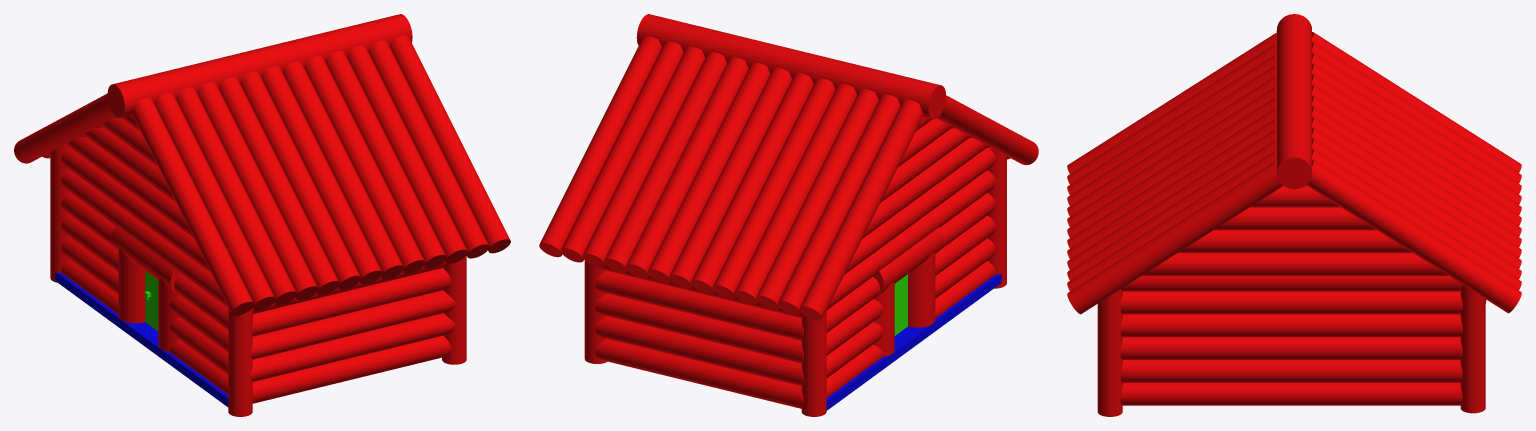
The model's file is log_house.fbx.
The picture shows the model from 3 angles, left to right: view 1: azimuth 30°, elevation 25°; view 2: azimuth 150°, elevation 25°; view 3: azimuth 270°, elevation 25°; orthographic projection. The views are drawn at different scales.
Visible parts, largest first — view 1: Cylinder.032, Cylinder.058, Cylinder.055, Cylinder.046, Cylinder.050, Cylinder.052, Cylinder.054, Cylinder.047, Cylinder.048, Cylinder.051, Cylinder.057, Cylinder.053 (+29 smaller); view 2: Cylinder.032, Cylinder.044, Cylinder.033, Cylinder.039, Cylinder.042, Cylinder.036, Cylinder.043, Cylinder.038, Cylinder.040, Cylinder.037, Cylinder.045, Cylinder.034 (+29 smaller); view 3: Cylinder.003, Cylinder.004, Cylinder.002, Cylinder.001, Cylinder, Cylinder.057, Cylinder.045, Cylinder.064, Cylinder.032, Cylinder.026, Cylinder.065, Cylinder.066 (+27 smaller).
Boxes of the visible parts, x1,y1,x2,y2 form: Cylinder.032: [107, 14, 412, 117]; Cylinder.058: [132, 97, 254, 315]; Cylinder.055: [176, 87, 296, 305]; Cylinder.046: [368, 40, 489, 258]; Cylinder.050: [283, 61, 403, 279]; Cylinder.052: [240, 71, 360, 289]; Cylinder.054: [197, 82, 318, 300]; Cylinder.047: [347, 45, 467, 263]; Cylinder.048: [325, 50, 446, 268]; Cylinder.051: [261, 66, 382, 284]; Cylinder.057: [390, 35, 510, 253]; Cylinder.053: [218, 77, 339, 294]; Cylinder.032: [636, 14, 945, 119]; Cylinder.044: [799, 99, 923, 320]; Cylinder.033: [777, 94, 900, 315]; Cylinder.039: [647, 62, 770, 283]; Cylinder.042: [582, 46, 705, 267]; Cylinder.036: [712, 78, 835, 299]; Cylinder.043: [561, 41, 683, 262]; Cylinder.038: [669, 67, 791, 288]; Cylinder.040: [626, 57, 748, 278]; Cylinder.037: [691, 73, 813, 294]; Cylinder.045: [539, 36, 661, 257]; Cylinder.034: [756, 89, 878, 309]; Cylinder.003: [1120, 314, 1462, 337]; Cylinder.004: [1120, 291, 1462, 314]; Cylinder.002: [1120, 337, 1462, 359]; Cylinder.001: [1120, 360, 1462, 382]; Cylinder: [1120, 383, 1462, 405]; Cylinder.057: [1067, 160, 1283, 314]; Cylinder.045: [1306, 159, 1521, 313]; Cylinder.064: [1142, 253, 1448, 275]; Cylinder.032: [1276, 14, 1311, 189]; Cylinder.026: [1121, 276, 1462, 291]; Cylinder.065: [1178, 230, 1412, 252]; Cylinder.066: [1214, 207, 1376, 230].
Bounding box in the file's own units: 6726 × 6000 × 9017.
